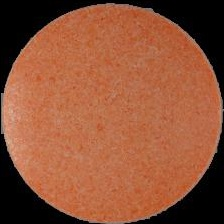63739-126: (0, 0, 224, 224)
